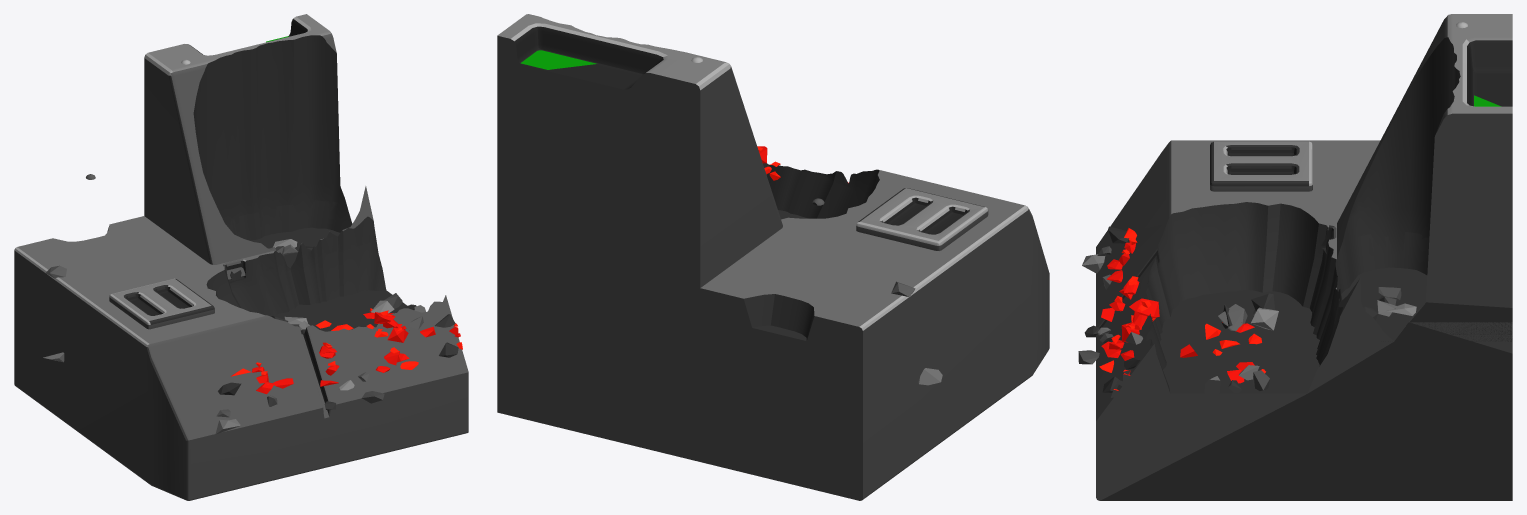
Rendered from window_block_bl_wreck.glb.
3 views of the same model, side by side, from view 1: azimuth 30°, elevation 25°; view 2: azimuth 150°, elevation 25°; view 3: azimuth 270°, elevation 25° (orthographic). The views are drawn at different scales.
Parts seen in each view (by area): view 1: plinth.001, tower.001, vent.001; view 2: plinth.001, tower.001, vent.001, shard2_0.001; view 3: plinth.001, tower.001, vent.001.
Boxes of the visible parts, x1,y1,x2,y2 form: plinth.001: [14, 200, 468, 500]; tower.001: [144, 14, 376, 280]; vent.001: [109, 278, 214, 329]; plinth.001: [497, 163, 1049, 500]; tower.001: [497, 14, 782, 305]; vent.001: [856, 188, 988, 250]; shard2_0.001: [520, 50, 596, 69]; plinth.001: [1096, 140, 1512, 500]; tower.001: [1329, 14, 1512, 341]; vent.001: [1210, 141, 1312, 191].
Bounding box in the file's own units: 20.96 × 19.64 × 19.8.
